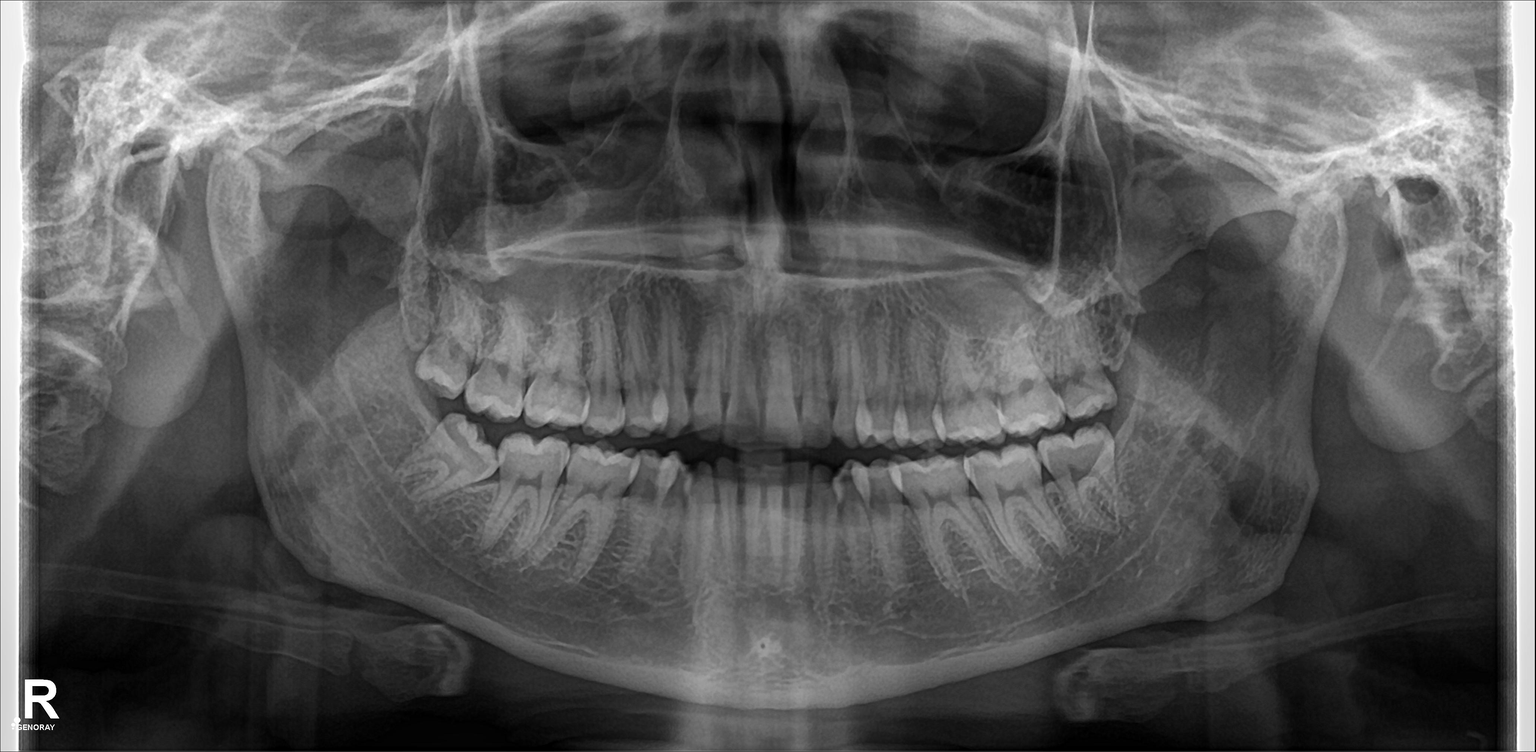Impacted Third Molar: (408, 419, 489, 492)
